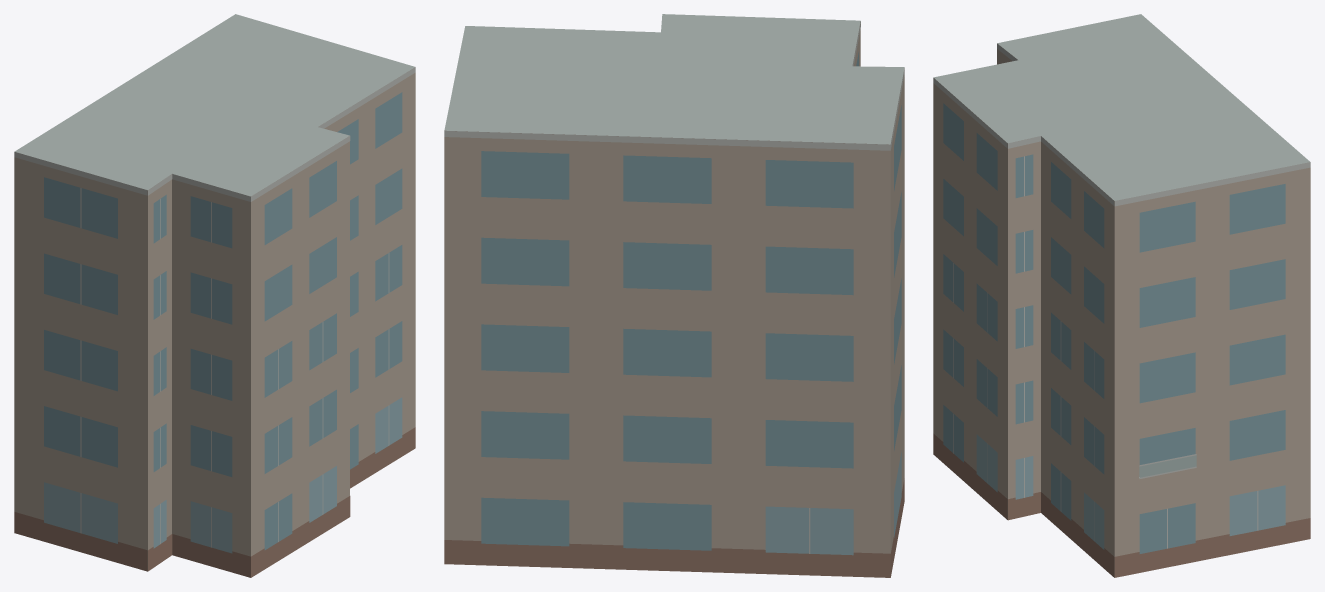
The model's file is survey-upis-32895904.glb.
The picture shows the model from 3 angles, left to right: view 1: azimuth 30°, elevation 25°; view 2: azimuth 150°, elevation 25°; view 3: azimuth 270°, elevation 25°; orthographic projection. The views are drawn at different scales.
Parts seen in each view (by area): view 1: survey-upis-32895904.tmp; view 2: survey-upis-32895904.tmp; view 3: survey-upis-32895904.tmp.
Part boxes in pixels (left/top/right/bottom): survey-upis-32895904.tmp: left=14, top=14, right=415, bottom=577; survey-upis-32895904.tmp: left=444, top=14, right=904, bottom=577; survey-upis-32895904.tmp: left=933, top=14, right=1310, bottom=577.
Bounding box in the file's own units: 17.92 × 16.83 × 15.28.
